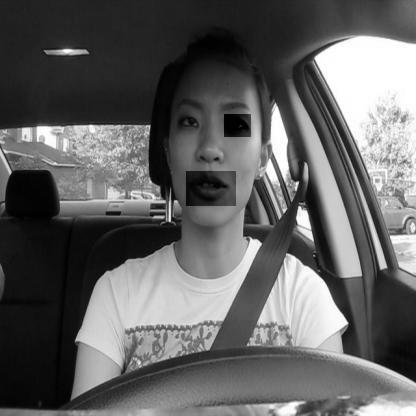seatbelt: (147, 21, 287, 347)
